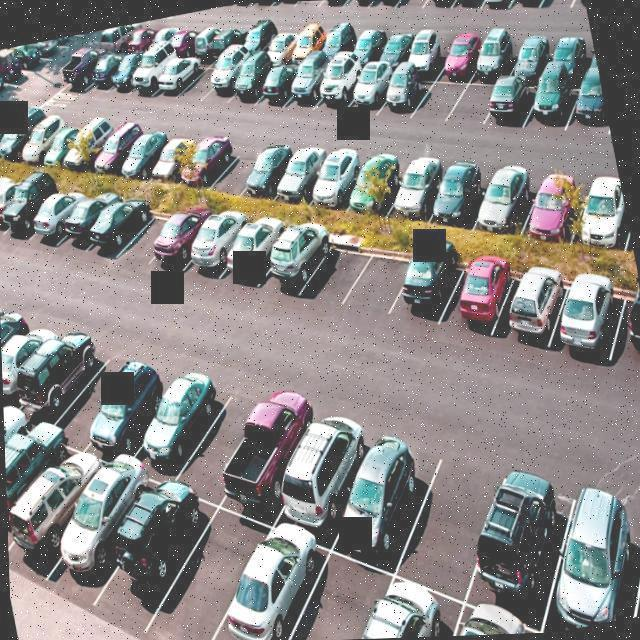space-empty: (385, 452, 509, 596), (150, 510, 267, 640), (166, 374, 267, 500), (43, 343, 145, 450), (267, 549, 382, 640), (343, 230, 422, 330), (298, 222, 376, 313), (109, 198, 185, 281), (199, 126, 268, 200), (404, 55, 464, 125), (441, 65, 497, 138), (173, 45, 227, 104), (538, 0, 578, 19), (294, 0, 335, 18), (395, 0, 437, 16)
space-occupied: (458, 471, 581, 618), (526, 486, 640, 633), (210, 385, 330, 519), (202, 516, 326, 640), (120, 354, 233, 484), (325, 436, 437, 564), (48, 459, 154, 593), (99, 485, 206, 608), (80, 348, 188, 466), (274, 413, 384, 528), (8, 444, 106, 568), (9, 320, 108, 419), (506, 156, 591, 255), (457, 146, 538, 242), (178, 197, 258, 294), (562, 164, 635, 270), (430, 247, 517, 335), (388, 234, 474, 323), (251, 210, 336, 299), (4, 423, 69, 537), (215, 203, 298, 291), (549, 266, 627, 358), (139, 199, 224, 281), (0, 312, 69, 413), (413, 145, 491, 233), (493, 257, 566, 347), (77, 185, 159, 263), (379, 148, 455, 228), (19, 182, 93, 262), (513, 54, 581, 141), (351, 582, 452, 639), (0, 166, 66, 251), (79, 110, 151, 185), (55, 184, 124, 260), (265, 131, 334, 207), (302, 138, 369, 216), (54, 105, 121, 181), (555, 54, 611, 144), (339, 146, 406, 219), (229, 134, 299, 203), (168, 123, 238, 192), (110, 119, 177, 191), (470, 61, 533, 137), (338, 45, 396, 116), (141, 123, 204, 188), (10, 106, 75, 169), (307, 48, 366, 116), (371, 49, 427, 120), (598, 278, 640, 372), (0, 304, 42, 393), (31, 112, 92, 173), (465, 15, 521, 81), (500, 14, 555, 81), (144, 44, 203, 105), (46, 39, 105, 98), (123, 35, 180, 96), (279, 49, 334, 112), (198, 41, 253, 104), (225, 48, 278, 111), (0, 96, 49, 164), (613, 494, 640, 617), (544, 20, 595, 83), (396, 16, 444, 81), (432, 20, 482, 82), (448, 598, 527, 636), (100, 38, 150, 98), (3, 403, 31, 510), (249, 52, 301, 109), (310, 9, 361, 64), (80, 41, 129, 96), (261, 11, 308, 68), (341, 16, 389, 71), (373, 16, 420, 69), (161, 10, 208, 61), (205, 14, 254, 62), (0, 168, 35, 235), (184, 16, 232, 64), (288, 14, 333, 64), (238, 11, 282, 59), (144, 13, 192, 57), (4, 41, 48, 83), (0, 107, 30, 164), (0, 44, 28, 97), (122, 19, 162, 55), (95, 23, 136, 49), (0, 282, 12, 370), (36, 35, 79, 59), (27, 38, 62, 64), (0, 167, 12, 240), (506, 0, 554, 17), (423, 0, 469, 17), (372, 0, 416, 17), (472, 0, 514, 17), (317, 0, 358, 17), (347, 0, 388, 15), (274, 0, 317, 12), (0, 52, 9, 106), (450, 0, 491, 10), (248, 1, 289, 10)
